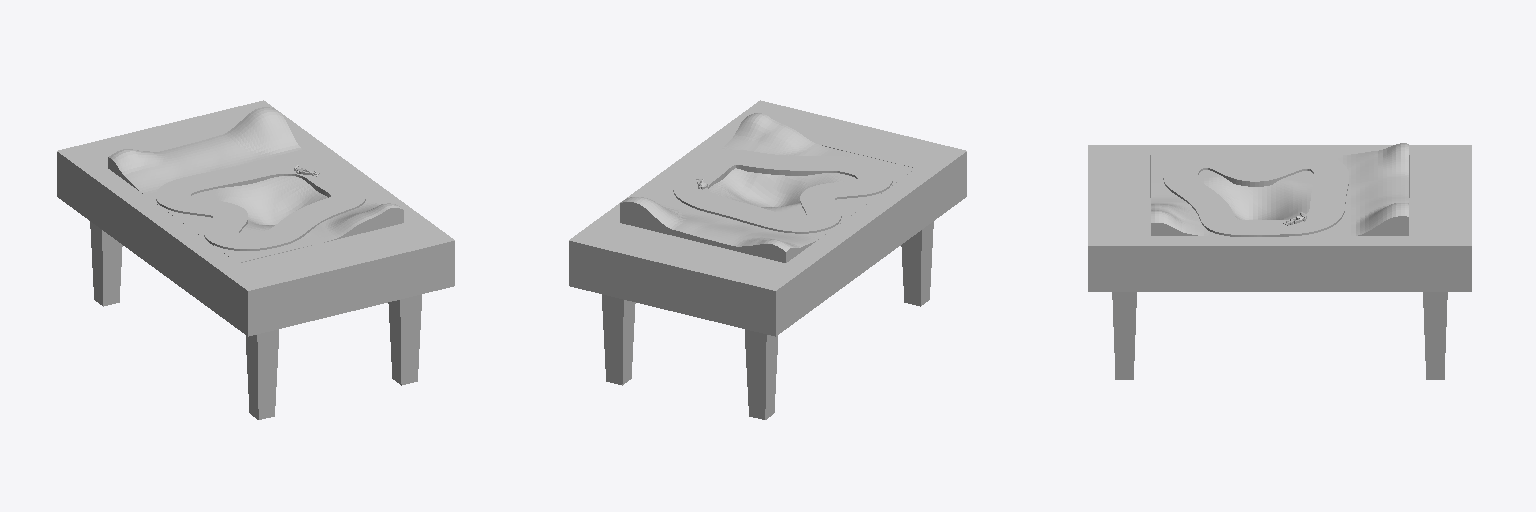
File: NewestTisch18.obj
The picture shows the model from 3 angles: view 1: azimuth 30°, elevation 25°; view 2: azimuth 150°, elevation 25°; view 3: azimuth 270°, elevation 25°; orthographic projection.
Visible parts, largest first — view 1: Tischplatte_wood_table_001, Landschaft_aerial_grass_rock, off, Bein1_wood_table_001, Bein4_wood_table_001.003, Bein3_wood_table_001.002; view 2: Tischplatte_wood_table_001, Landschaft_aerial_grass_rock, off, Bein2_wood_table_001.001, Bein3_wood_table_001.002, Bein4_wood_table_001.003; view 3: Tischplatte_wood_table_001, Landschaft_aerial_grass_rock, off, Bein1_wood_table_001, Bein2_wood_table_001.001.
Part boxes in pixels (x1,y1,x2,y2): Tischplatte_wood_table_001: (57, 100, 454, 336); Landschaft_aerial_grass_rock: (108, 107, 403, 262); off: (156, 159, 365, 250); Bein1_wood_table_001: (388, 294, 421, 385); Bein4_wood_table_001.003: (246, 329, 278, 419); Bein3_wood_table_001.002: (90, 221, 122, 306); Tischplatte_wood_table_001: (569, 100, 966, 336); Landschaft_aerial_grass_rock: (620, 113, 915, 262); off: (673, 150, 892, 233); Bein2_wood_table_001.001: (602, 294, 635, 385); Bein3_wood_table_001.002: (745, 329, 777, 419); Bein4_wood_table_001.003: (901, 221, 933, 306); Tischplatte_wood_table_001: (1088, 145, 1471, 291); Landschaft_aerial_grass_rock: (1151, 143, 1408, 235); off: (1163, 153, 1348, 236); Bein1_wood_table_001: (1112, 292, 1136, 379); Bein2_wood_table_001.001: (1423, 292, 1447, 379).
Bounding box in the file's own units: 5 × 3.91 × 8.